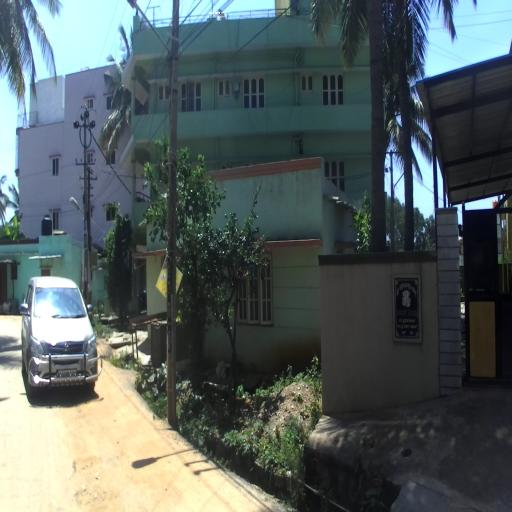street_light_0: (70, 197, 84, 212)
